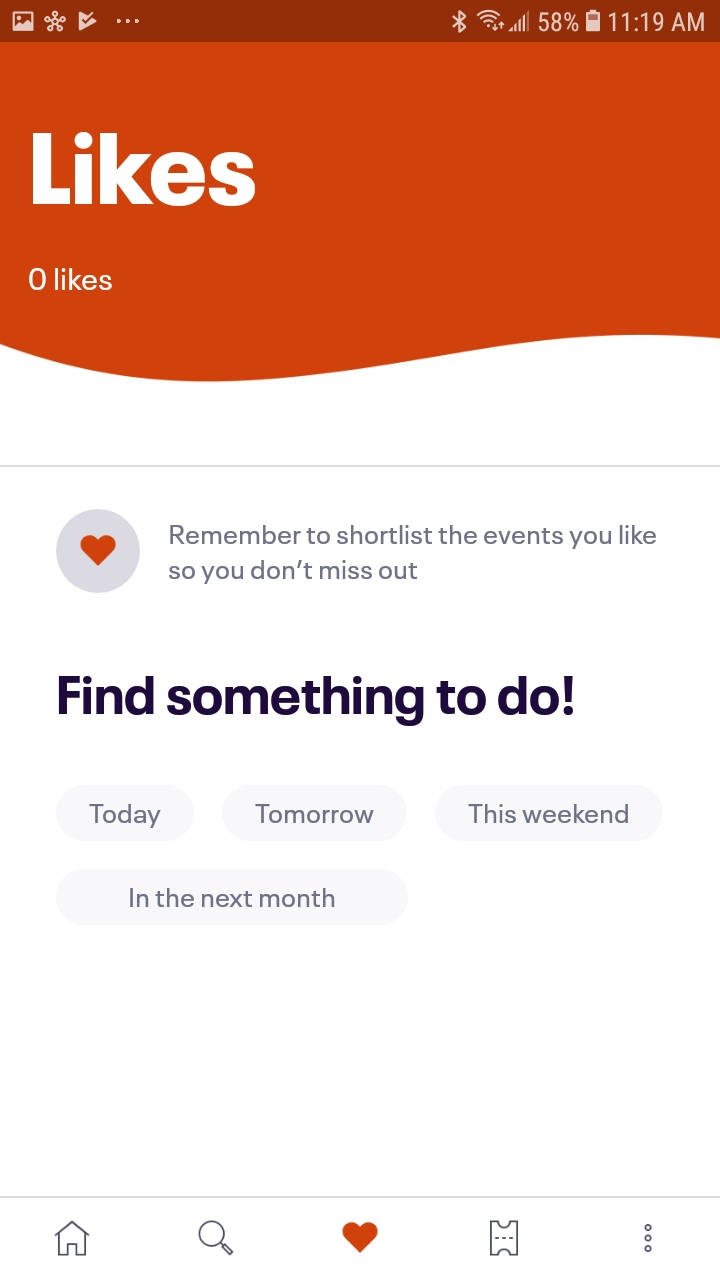Icon: (57, 509, 141, 593), (198, 1219, 235, 1256), (55, 1219, 91, 1256), (342, 1221, 379, 1253), (489, 1219, 519, 1257), (644, 1224, 653, 1253)
Text: (169, 524, 657, 585), (59, 675, 574, 727), (33, 132, 257, 207), (29, 268, 113, 292)
TextButton: (56, 868, 409, 926), (435, 784, 664, 842), (223, 785, 408, 842), (57, 785, 196, 842)
UpperTaskBar: (1, 1, 720, 43)
